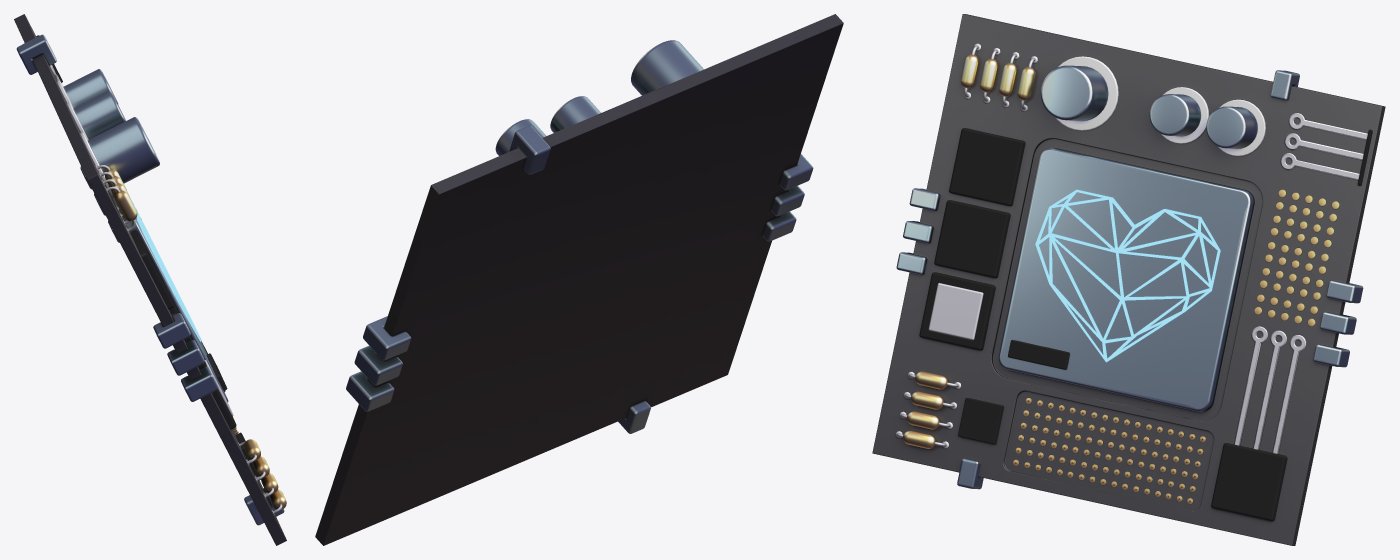
Rendered from technologies.glb.
3 renders of one model, left to right at view 1: azimuth 30°, elevation 25°; view 2: azimuth 150°, elevation 25°; view 3: azimuth 270°, elevation 25°, orthographic. The views are drawn at different scales.
Visible parts, largest first — view 1: technologies; view 2: technologies; view 3: technologies.
Part boxes in pixels (box(x1,y1,x2,y2)): technologies: box(14, 14, 286, 545); technologies: box(315, 14, 843, 545); technologies: box(872, 14, 1385, 545).
Bounding box in the file's own units: 0.5595 × 0.7391 × 0.8606.
4 materials, 2 textured.
